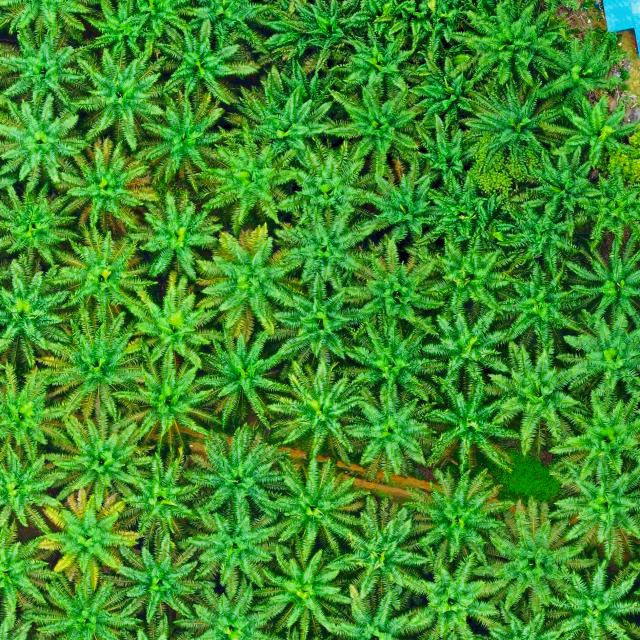Tree: (476, 497, 604, 621), (183, 118, 311, 236), (30, 305, 153, 418), (315, 67, 430, 182), (257, 199, 381, 302), (191, 220, 302, 333), (401, 463, 514, 574), (177, 421, 296, 526), (319, 491, 430, 602), (480, 341, 586, 457), (40, 405, 153, 513), (64, 40, 168, 156), (43, 222, 162, 321), (335, 234, 453, 333), (115, 354, 218, 467), (47, 137, 160, 238), (265, 452, 374, 556), (271, 354, 370, 468), (341, 313, 455, 411), (24, 494, 140, 588), (424, 375, 531, 476), (398, 549, 516, 640), (415, 223, 524, 320), (0, 88, 103, 190), (273, 135, 376, 236), (123, 189, 225, 290), (343, 152, 450, 248), (183, 504, 294, 596), (137, 90, 237, 192), (458, 0, 565, 94), (199, 325, 292, 431), (153, 18, 262, 108), (542, 459, 640, 559), (113, 528, 215, 623), (251, 542, 349, 640), (342, 381, 438, 480), (22, 564, 146, 640), (421, 303, 521, 397), (124, 272, 224, 366), (233, 70, 335, 162), (492, 256, 586, 352), (513, 138, 611, 230), (0, 249, 71, 374), (555, 306, 640, 408), (461, 83, 572, 161), (542, 395, 640, 483), (0, 24, 95, 114), (176, 569, 294, 640), (112, 446, 204, 536), (541, 557, 640, 639), (0, 176, 85, 269), (403, 110, 492, 198), (492, 198, 586, 280), (0, 353, 71, 461), (258, 0, 370, 67), (275, 274, 363, 359), (317, 578, 437, 640), (563, 237, 640, 331), (529, 32, 621, 108), (554, 89, 640, 169), (339, 15, 419, 100), (565, 161, 640, 246), (0, 439, 64, 536), (404, 49, 484, 126), (422, 166, 495, 248), (77, 0, 158, 65), (174, 0, 272, 46), (619, 446, 640, 538), (619, 533, 640, 623)
